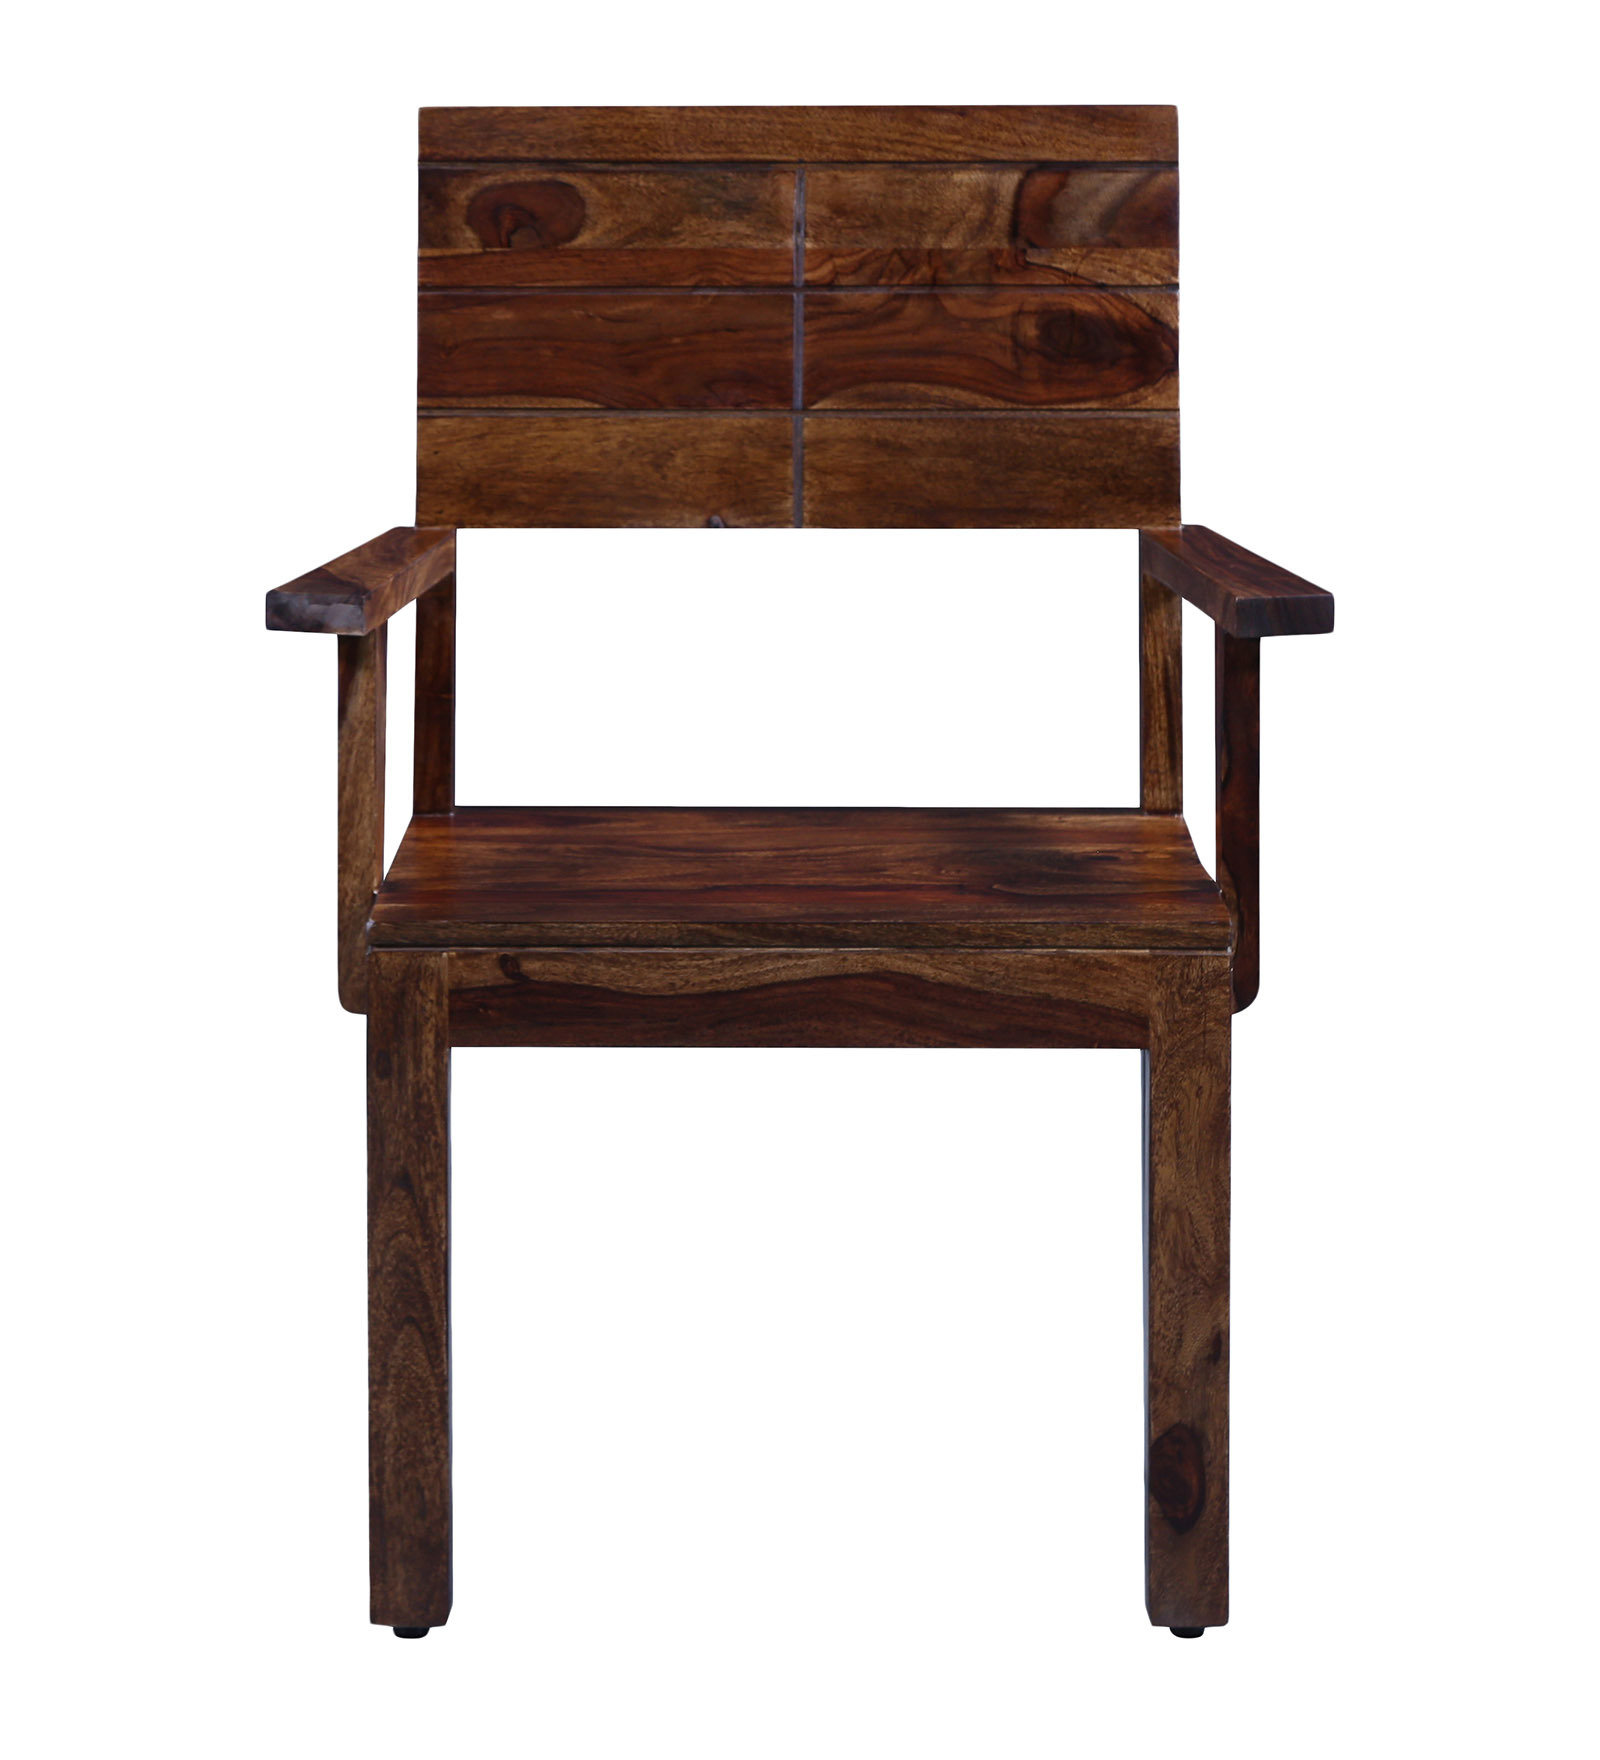Segur Arm Chair in Provincial Teak Finish by Woodsworth: (282, 81, 1304, 1657)
